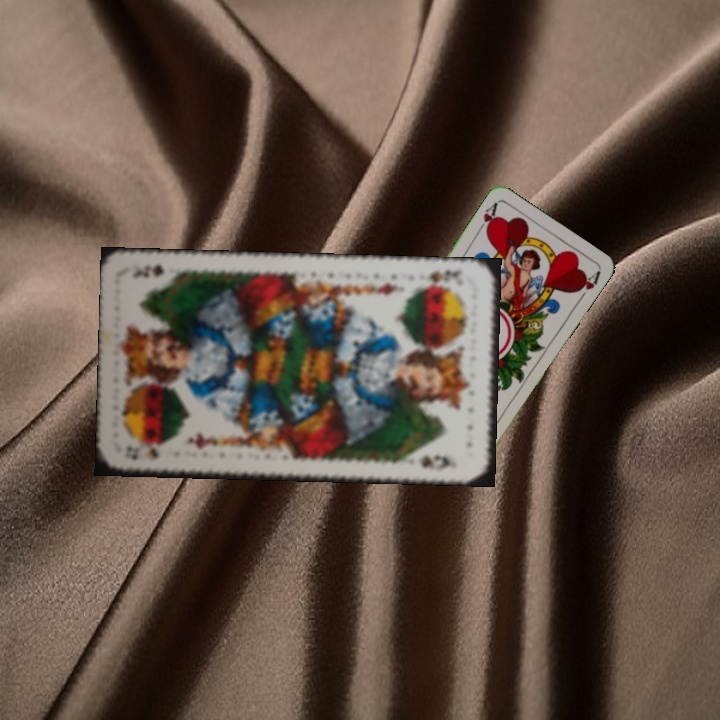HA: (474, 198, 500, 236)
SK: (415, 265, 464, 291), (120, 442, 161, 463)
